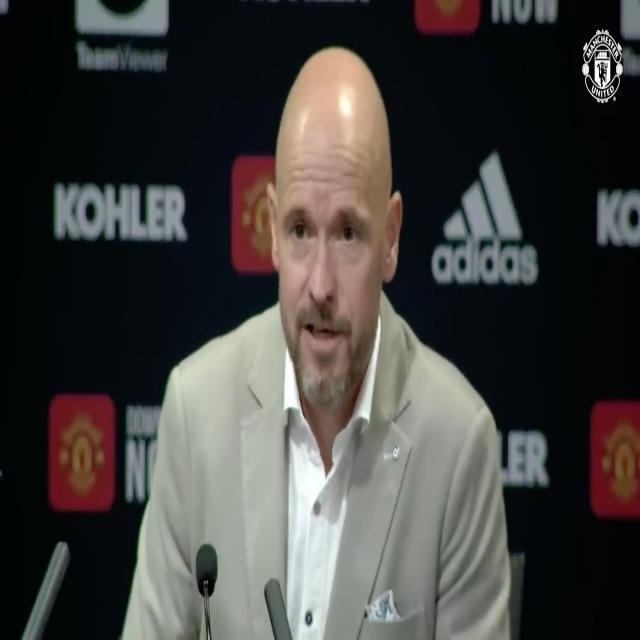Adidas: (432, 147, 540, 286)
Kohler: (52, 179, 189, 244)
TeamViewer: (75, 0, 168, 72)
